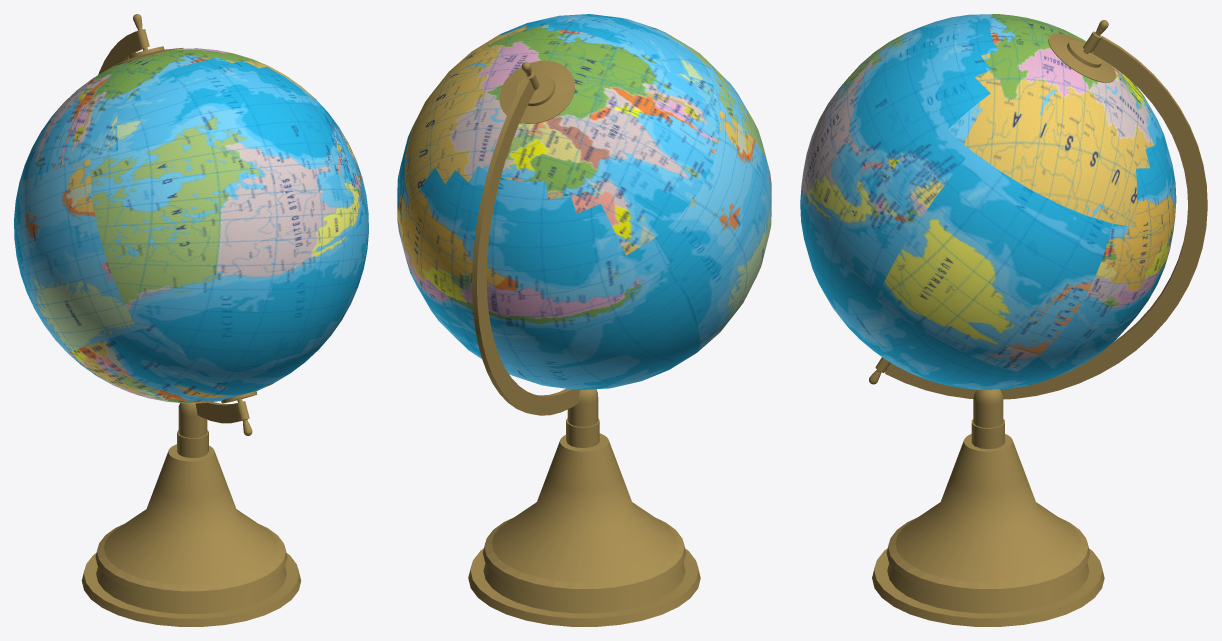
File: 3DGlobalMap.fbx
3 renders of one model, left to right at view 1: azimuth 30°, elevation 25°; view 2: azimuth 150°, elevation 25°; view 3: azimuth 270°, elevation 25°, orthographic. The views are drawn at different scales.
Visible parts, largest first — view 1: polySurface1, pCylinder5; view 2: polySurface1, pCylinder5; view 3: polySurface1, pCylinder5.
Part boxes in pixels (bbox=[...]): polySurface1: bbox=[14, 48, 368, 403]; pCylinder5: bbox=[81, 14, 300, 626]; polySurface1: bbox=[397, 14, 771, 390]; pCylinder5: bbox=[468, 60, 700, 626]; polySurface1: bbox=[800, 14, 1176, 389]; pCylinder5: bbox=[869, 20, 1207, 626].
Bounding box in the file's own units: 9.28 × 15.2 × 10.07.
Materials: 2 (1 with a texture image).
